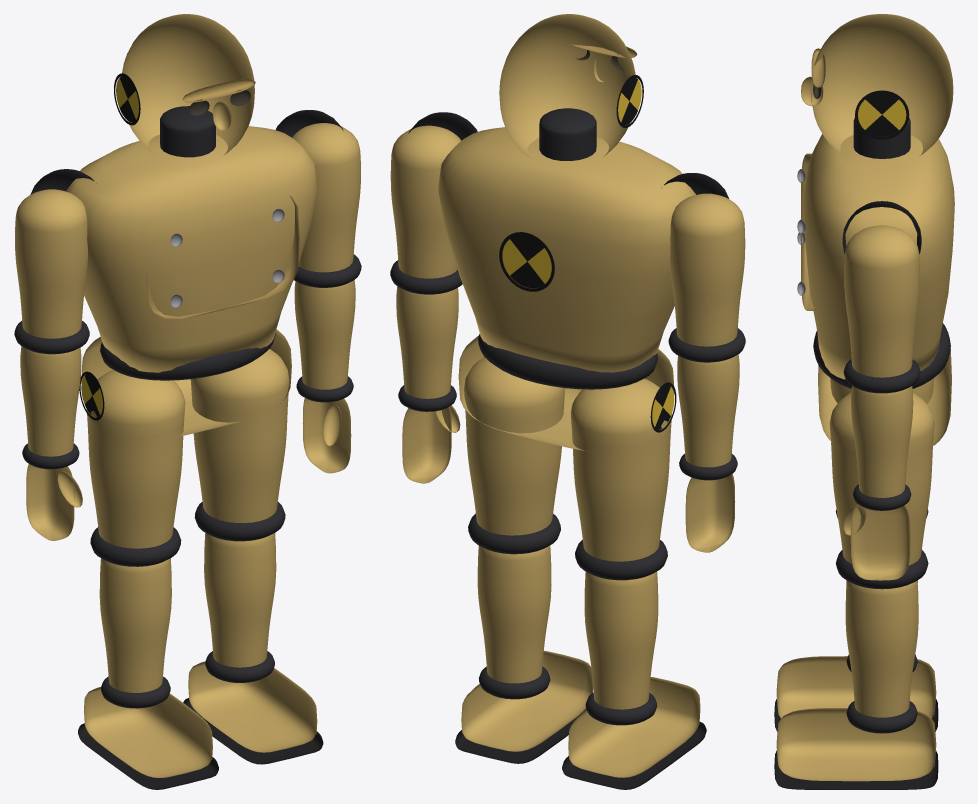
File: DummyBody.glb
3 views of the same model, side by side, from view 1: azimuth 30°, elevation 25°; view 2: azimuth 150°, elevation 25°; view 3: azimuth 270°, elevation 25° (orthographic). The views are drawn at different scales.
Visible parts, largest first — view 1: UpperTorso, RightUpperLeg, Head, LeftUpperLeg, RightUpperArm, RightFoot, RightLowerLeg, LeftLowerLeg, LeftFoot, LeftUpperArm, RightLowerArm, LeftLowerArm (+3 smaller); view 2: UpperTorso, RightUpperLeg, Head, LeftUpperLeg, RightUpperArm, LeftLowerLeg, RightLowerLeg, RightFoot, LeftUpperArm, LeftFoot, LowerTorso, RightLowerArm (+3 smaller); view 3: UpperTorso, Head, LeftUpperArm, LeftFoot, LeftLowerLeg, LeftUpperLeg, LeftLowerArm, RightFoot, LeftHand, LowerTorso, RightUpperLeg.
Part boxes in pixels (x1,y1,x2,y2): UpperTorso: (30,110,343,372); RightUpperLeg: (86,370,185,566); Head: (114,14,255,157); LeftUpperLeg: (190,349,289,541); RightUpperArm: (14,189,89,354); RightFoot: (78,687,218,789); RightLowerLeg: (99,558,171,708); LeftLowerLeg: (204,533,276,682); LeftFoot: (183,661,323,764); LeftUpperArm: (292,123,361,287); RightLowerArm: (20,346,81,469); LeftLowerArm: (294,280,355,402); UpperTorso: (408,112,728,372); RightUpperLeg: (570,378,671,580); Head: (499,14,643,160); LeftUpperLeg: (464,357,565,554); RightUpperArm: (668,193,745,362); LeftLowerLeg: (477,545,551,699); RightLowerLeg: (584,571,658,725); RightFoot: (562,677,706,789); LeftUpperArm: (390,125,462,294); LeftFoot: (455,650,593,763); LowerTorso: (458,334,676,452); RightLowerArm: (677,354,739,480); UpperTorso: (797,134,954,379); Head: (801,14,953,158); LeftUpperArm: (843,225,920,393); LeftFoot: (774,708,938,789); LeftLowerLeg: (845,580,918,733); LeftUpperLeg: (829,393,934,589); LeftLowerArm: (851,386,913,510); RightFoot: (774,656,938,731); LeftHand: (843,503,910,580); LowerTorso: (813,323,951,447); RightUpperLeg: (830,378,933,518).
Size of the model in its own units: 2.78 by 5.62 by 1.33.
1 material, 1 textured.
